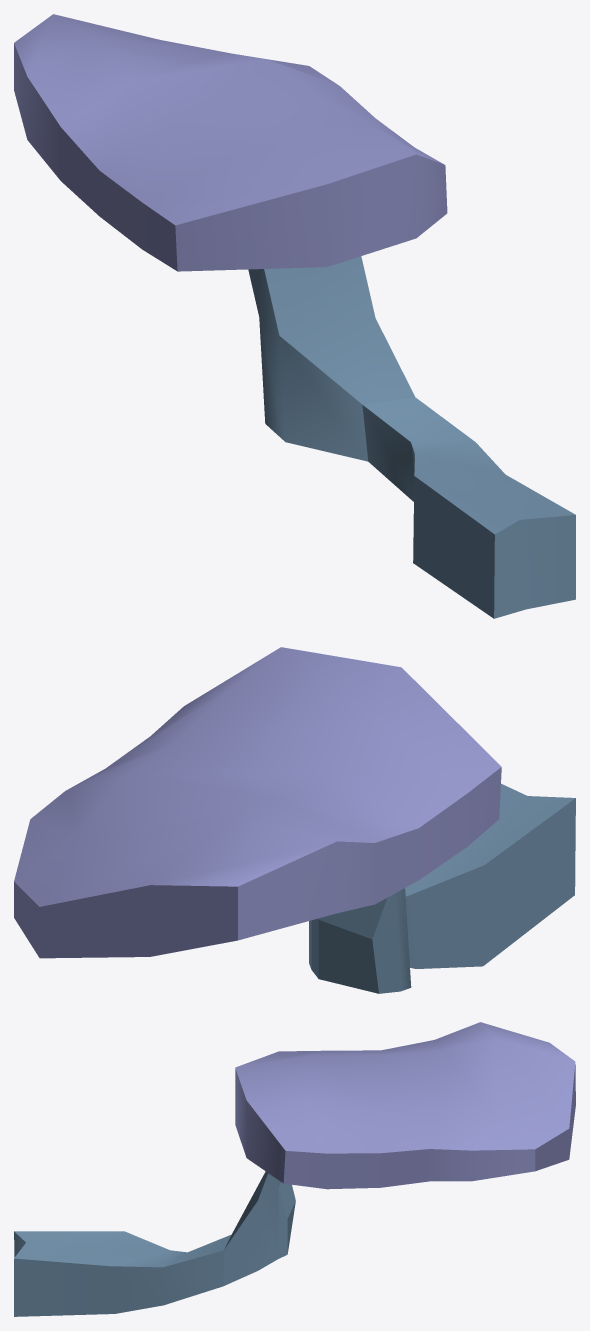
File: Night_Tree_Limb2.fbx
The picture shows the model from 3 angles, top to bottom: view 1: azimuth 30°, elevation 25°; view 2: azimuth 150°, elevation 25°; view 3: azimuth 270°, elevation 25°; orthographic projection. The views are drawn at different scales.
Visible parts, largest first — view 1: pasted__pasted__pCube2, pasted__pasted__pCube1; view 2: pasted__pasted__pCube2, pasted__pasted__pCube1; view 3: pasted__pasted__pCube2, pasted__pasted__pCube1.
Boxes of the visible parts, box(x1,y1,x2,y2) form: pasted__pasted__pCube2: box(14, 14, 447, 271); pasted__pasted__pCube1: box(248, 256, 575, 618); pasted__pasted__pCube2: box(14, 647, 501, 958); pasted__pasted__pCube1: box(309, 783, 575, 993); pasted__pasted__pCube2: box(235, 1022, 575, 1189); pasted__pasted__pCube1: box(14, 1171, 295, 1316).
Size of the model in its own units: 14.21 by 16.79 by 36.26.
